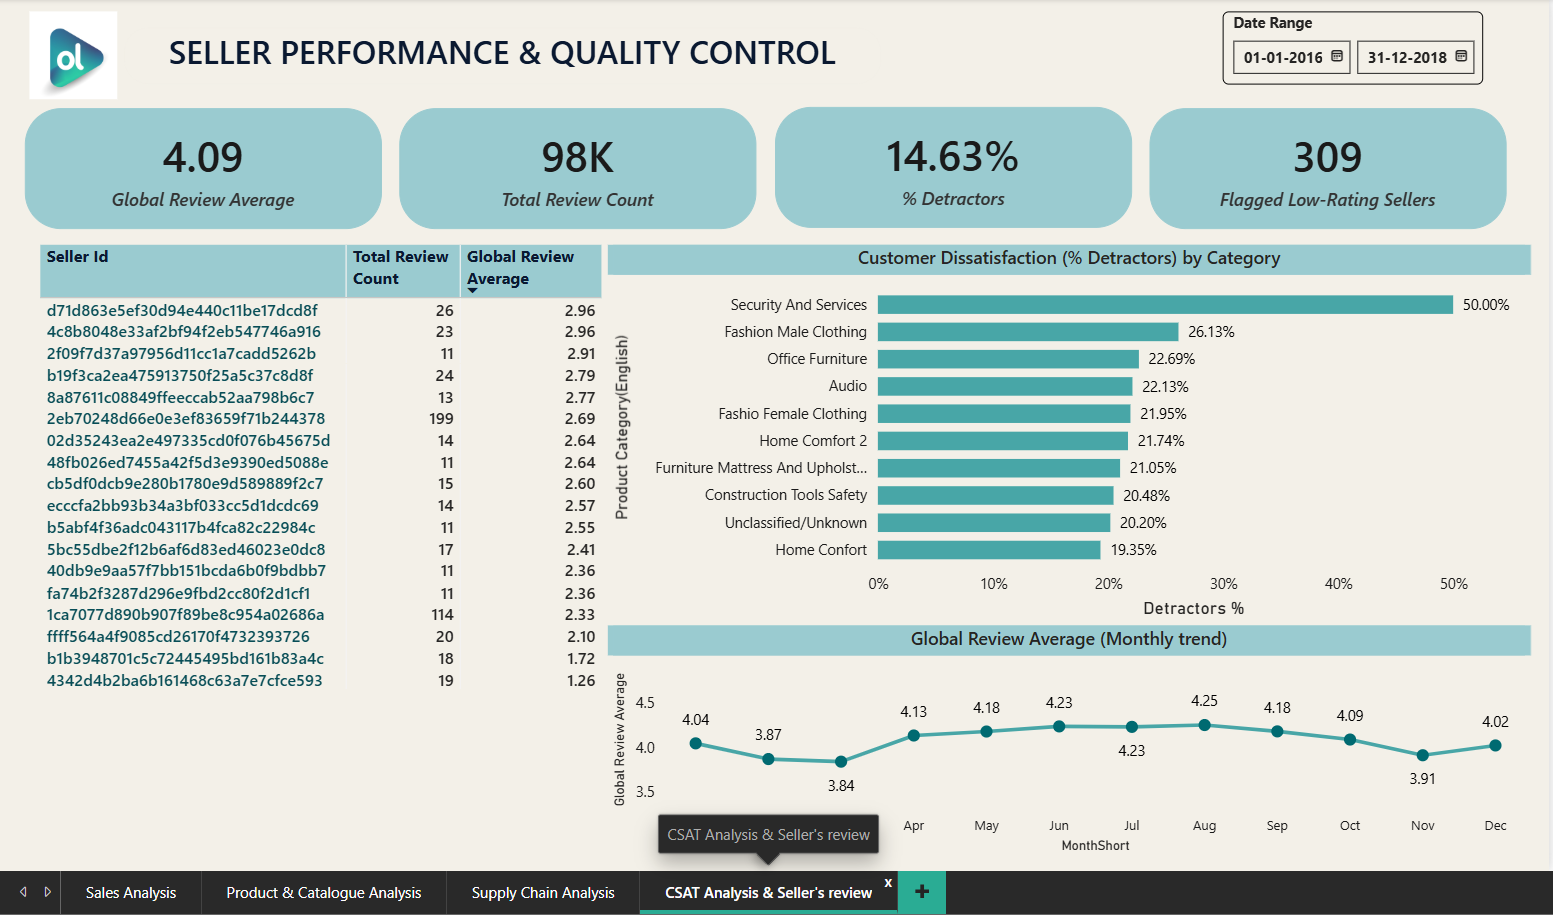

What the dashboard file says about the page in this screenshot:
{"tool":"powerbi","page":{"name":"CSAT Analysis & Seller's review","canvas":[1280,720],"ordinal":3},"visuals":[{"type":"textbox","box":[102.3,23.3,625.6,46.5],"z":0},{"type":"card","fields":{"Values":["olist_order_reviews_dataset.% Detractors"]},"box":[640,89.5,295.3,100],"z":1000},{"type":"card","fields":{"Values":["olist_order_reviews_dataset.Flagged Low-Rating Sellers"]},"box":[950,90,295.3,100],"z":2000},{"type":"card","fields":{"Values":["olist_order_reviews_dataset.Total Review Count"]},"box":[330,90,295.3,100],"z":3000},{"type":"card","fields":{"Values":["olist_order_reviews_dataset.Global Review Average"]},"box":[20,90,295.3,100],"z":4000},{"type":"slicer","fields":{"Values":["Calendar.Date"]},"box":[1010.5,10,215.1,60.5],"z":5000},{"type":"tableEx","fields":{"Values":["olist_order_items_dataset.seller_id","olist_order_reviews_dataset.Total Review Count","olist_order_reviews_dataset.Global Review Average"]},"box":[27.6,203.4,474.5,506.7],"z":6000},{"type":"barChart","title":"Customer Dissatisfaction (% Detractors) by Category","fields":{"Category":["clean_products.product_category_name_english"],"Y":["olist_order_reviews_dataset.% Detractors"]},"box":[502.1,203.4,743.4,313.7],"z":7000},{"type":"lineChart","title":"Global Review Average (Monthly trend)","fields":{"Y":["olist_order_reviews_dataset.Global Review Average"],"Category":["Calendar.MonthShort"]},"box":[502.1,517.1,743.4,193],"z":8000},{"type":"image","box":[19.5,10.3,82.7,72.4],"z":9000}]}

Visuals, with their boxes on the page's 1280x720 design canvas (x1, y1, x2, y2). These are canvas units, not pixel positions in the 1553x915 screenshot, which may show the page scaled, cropped or inside an application window:
textbox: box(102, 23, 728, 70)
card - olist_order_reviews_dataset.% Detractors: box(640, 90, 935, 190)
card - olist_order_reviews_dataset.Flagged Low-Rating Sellers: box(950, 90, 1245, 190)
card - olist_order_reviews_dataset.Total Review Count: box(330, 90, 625, 190)
card - olist_order_reviews_dataset.Global Review Average: box(20, 90, 315, 190)
slicer - Calendar.Date: box(1010, 10, 1226, 70)
tableEx - olist_order_items_dataset.seller_id x olist_order_reviews_dataset.Total Review Count: box(28, 203, 502, 710)
"Customer Dissatisfaction (% Detractors) by Category" barChart: box(502, 203, 1246, 517)
"Global Review Average (Monthly trend)" lineChart: box(502, 517, 1246, 710)
image: box(20, 10, 102, 83)
